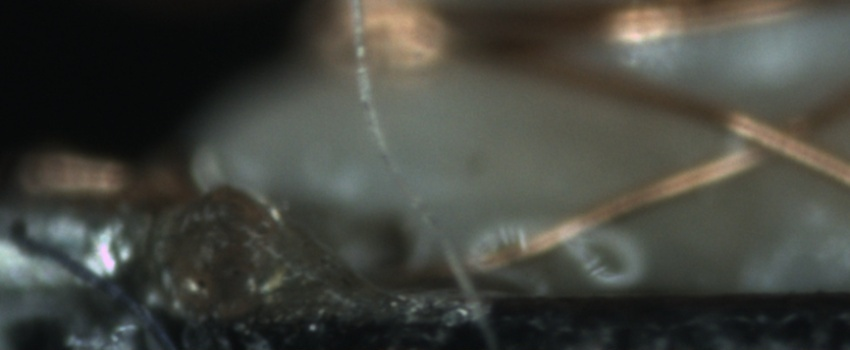CL: (697, 89, 838, 186)
TE: (21, 149, 192, 206)
